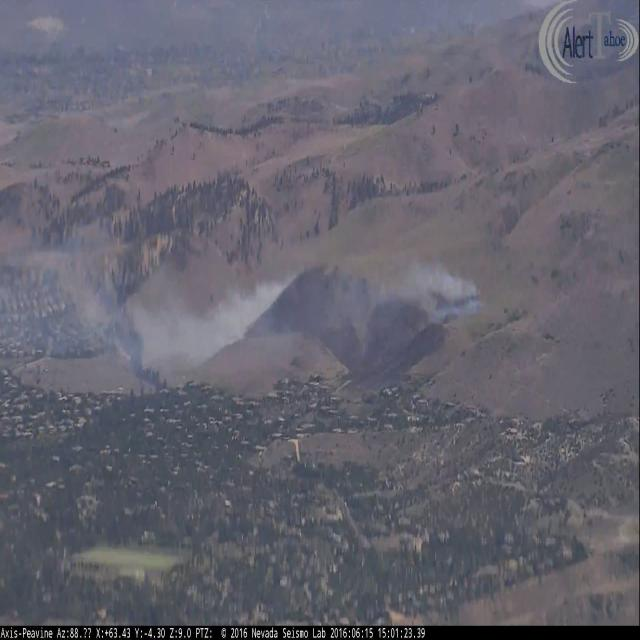smoke: (139, 276, 482, 368)
